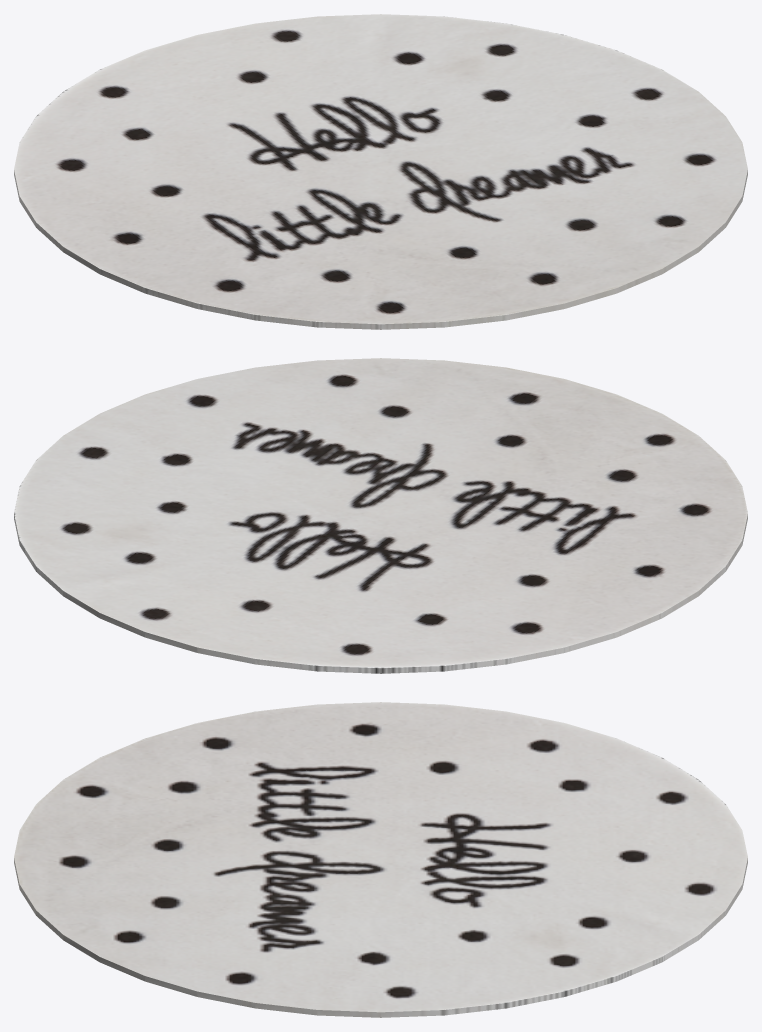
3 views of the same model, one above another, from view 1: azimuth 30°, elevation 25°; view 2: azimuth 150°, elevation 25°; view 3: azimuth 270°, elevation 25° (orthographic).
Parts seen in each view (by area): view 1: map00; view 2: map00; view 3: map00.
Boxes of the visible parts, bbox=[...] form: map00: bbox=[14, 14, 747, 329]; map00: bbox=[14, 358, 747, 673]; map00: bbox=[14, 702, 747, 1017].
Size of the model in its own units: 1.2 by 0.01 by 1.2.
1 material, 1 textured.
